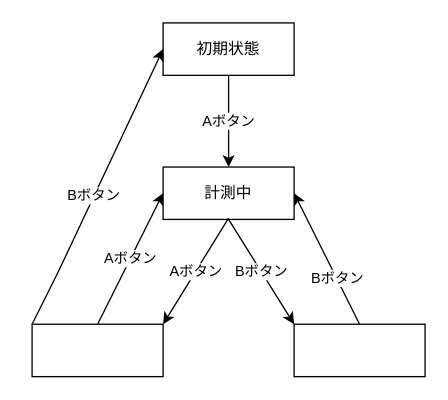
This 448x400 diagram has some shape labels left out. Here are the shapes that lost their labels. From the top down, the centre of each, then its label:
At (97,350): "一時停止中".
At (359,350): "ラップ表示中".
